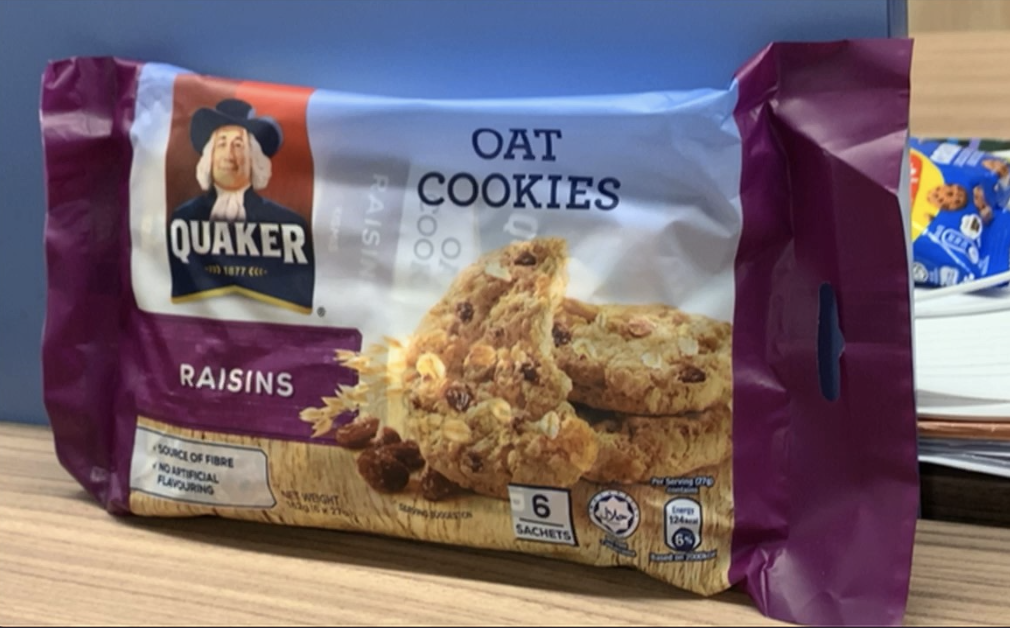cookies_100g-199g: (113, 110, 720, 520)
